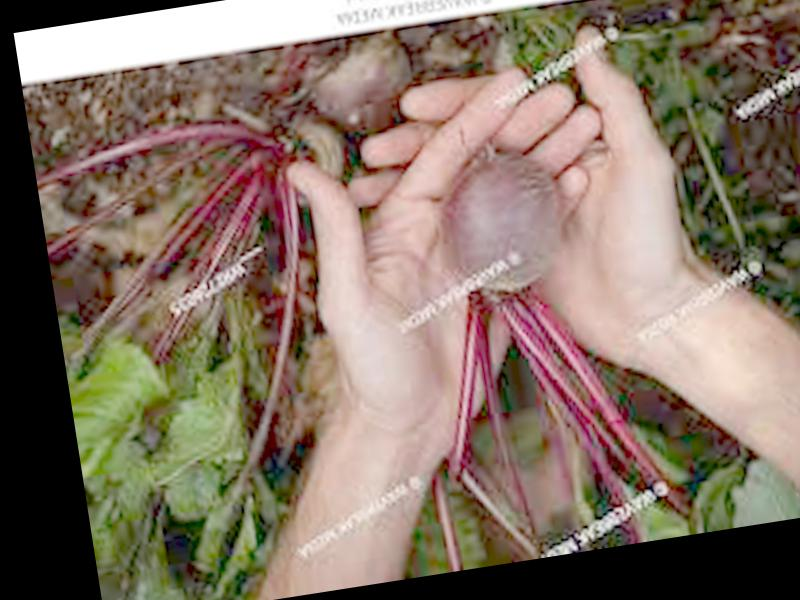Beet: (398, 119, 698, 557)
